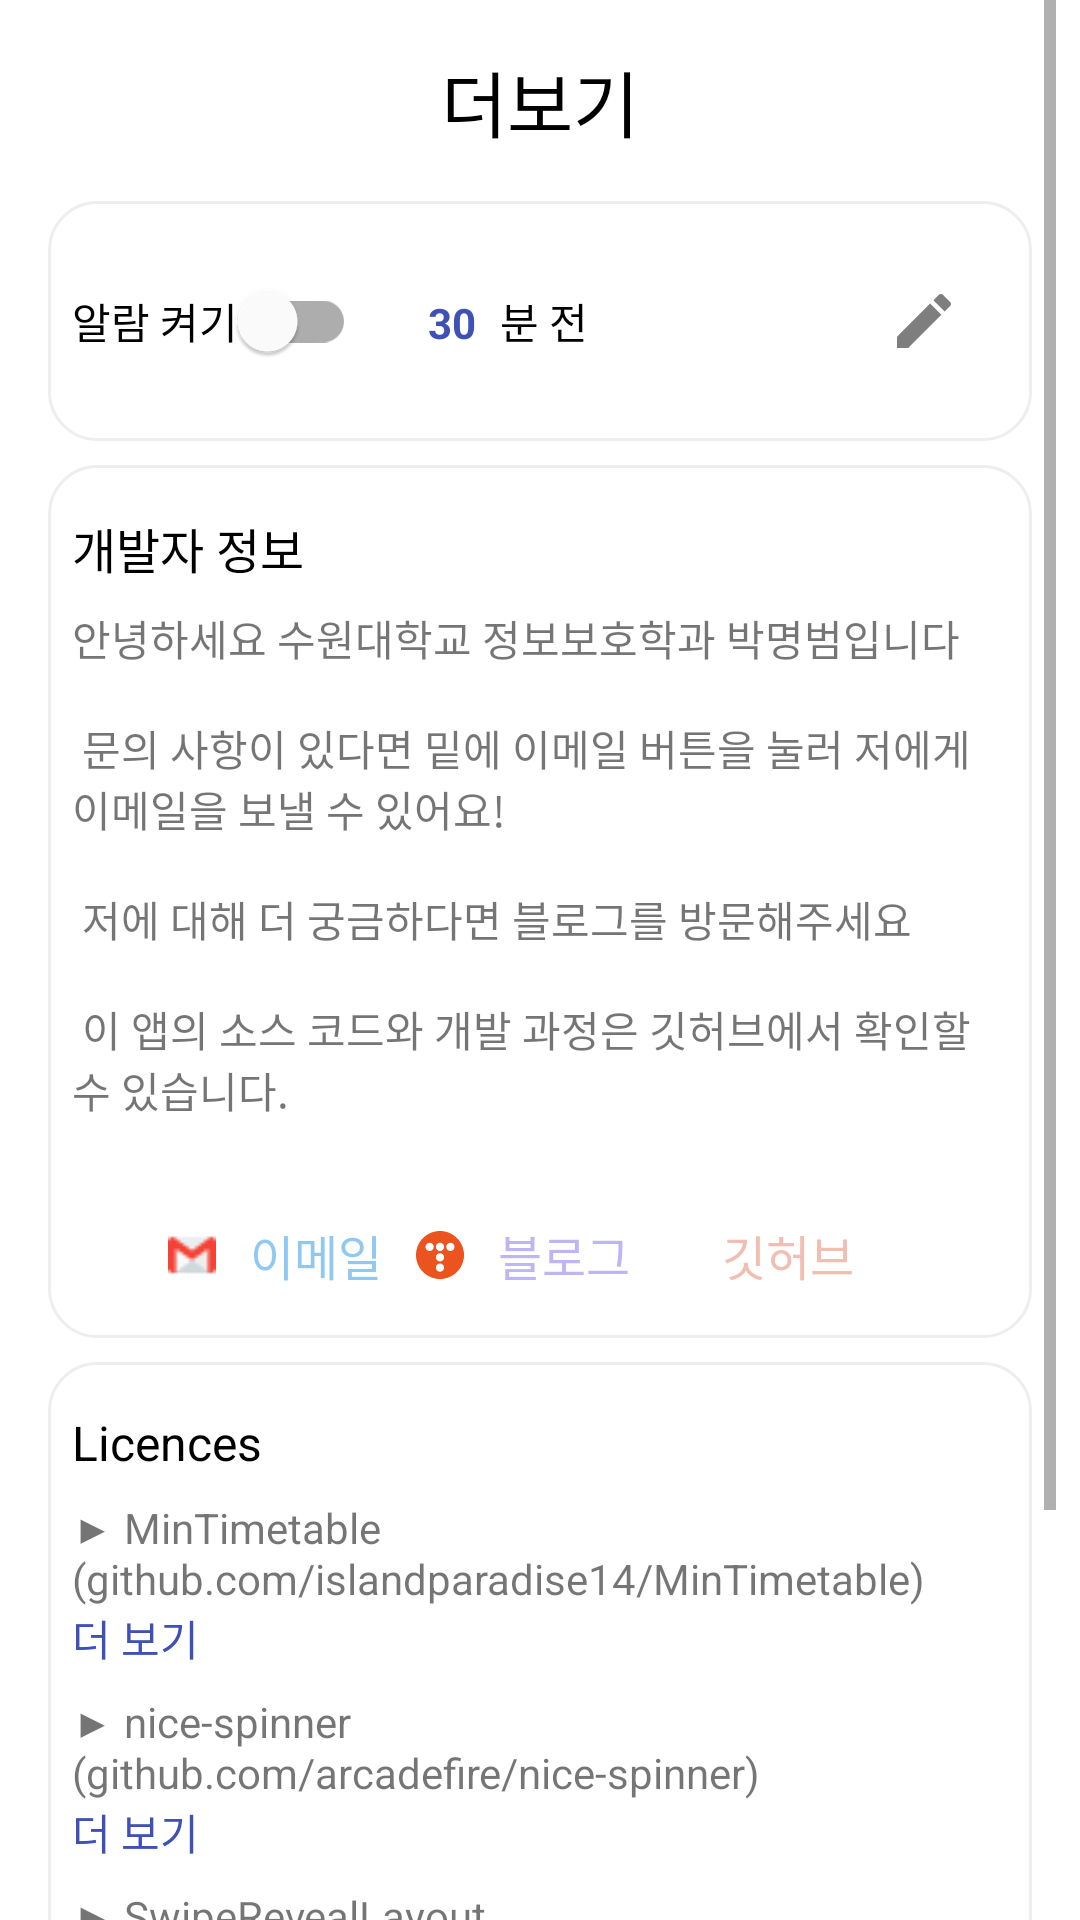

Named icons in this screenshot (1080*1920) and their bounding boxes, BBox(x1, y1, x2, y2):
button to edit minute: BBox(897, 294, 951, 348)
